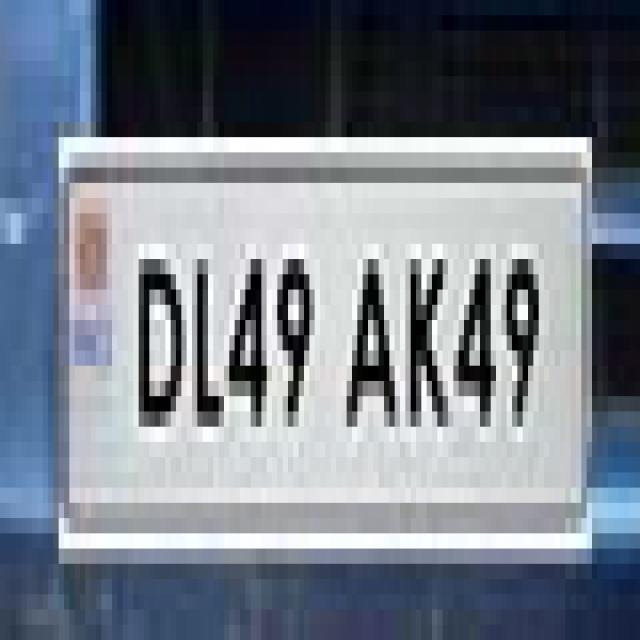4: (224, 238, 273, 430), (454, 243, 497, 448)
9: (272, 229, 319, 455), (503, 232, 545, 453)
A: (339, 232, 399, 449)
D: (133, 232, 187, 449)
K: (406, 231, 452, 450)
L: (190, 240, 228, 446)
